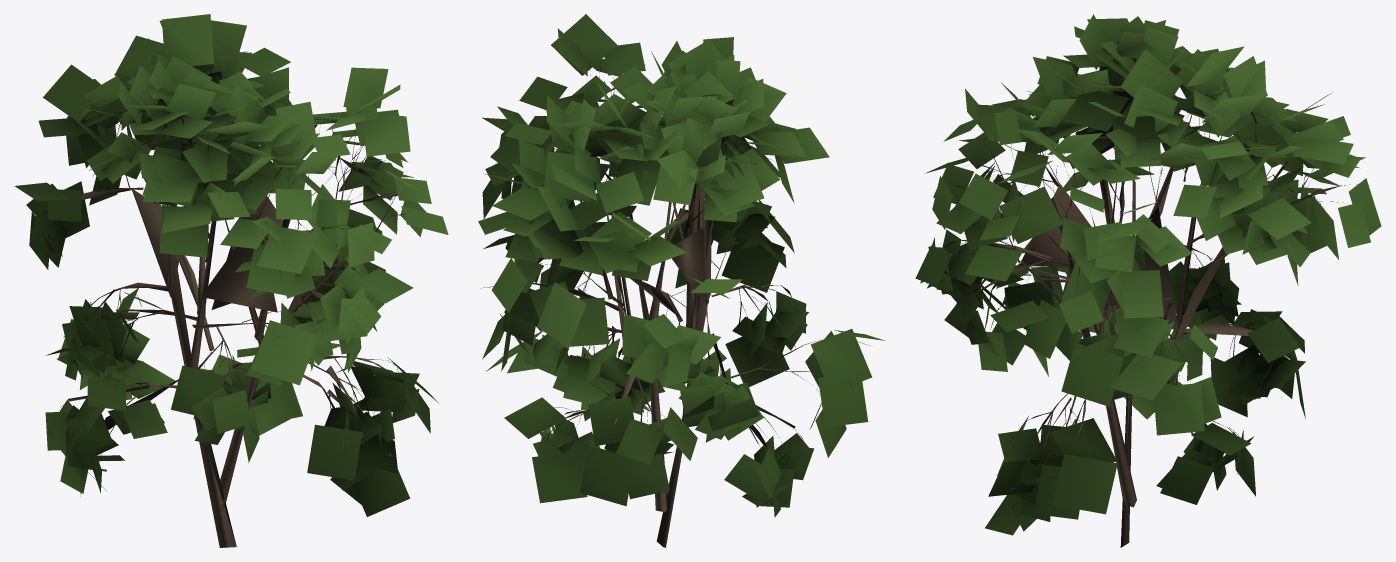
Rendered from birch.glb.
3 renders of one model, left to right at view 1: azimuth 30°, elevation 25°; view 2: azimuth 150°, elevation 25°; view 3: azimuth 270°, elevation 25°, orthographic. The views are drawn at different scales.
Parts seen in each view (by area): view 1: birch_leaves, birch_wood; view 2: birch_leaves, birch_wood; view 3: birch_leaves, birch_wood.
Boxes of the visible parts, x1=… form: birch_leaves: x1=15, y1=14, x2=448, y2=516; birch_wood: x1=35, y1=66, x2=404, y2=547; birch_leaves: x1=478, y1=14, x2=885, y2=517; birch_wood: x1=510, y1=60, x2=849, y2=547; birch_leaves: x1=915, y1=14, x2=1381, y2=535; birch_wood: x1=936, y1=63, x2=1356, y2=547.
Size of the model in its own units: 14.25 by 18.17 by 15.21.
